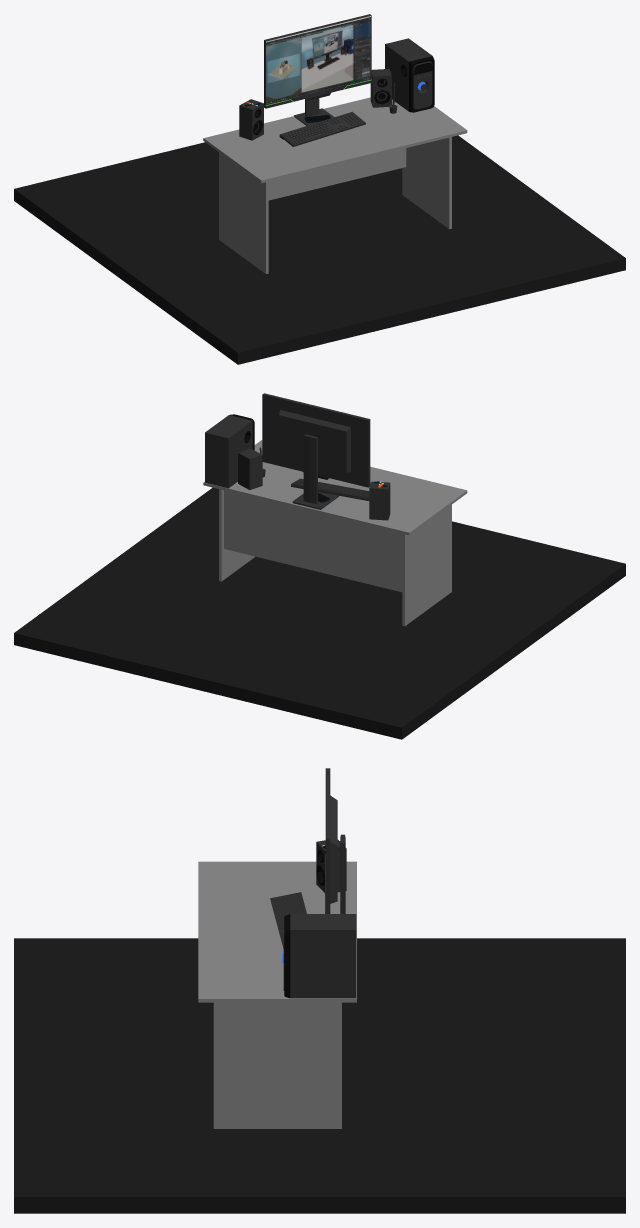
The model's file is lowpoly_workplace.glb.
The picture shows the model from 3 angles, top to bottom: view 1: azimuth 30°, elevation 25°; view 2: azimuth 150°, elevation 25°; view 3: azimuth 270°, elevation 25°; orthographic projection. The views are drawn at different scales.
Visible parts, largest first — view 1: Plane_10, Cube.012_0, monitor_12, Cube.017_8, Cube.013_1, keyboard_11; view 2: Plane_10, Cube.012_0, monitor_12, Cube.017_8, Cube.013_1, keyboard_11; view 3: Plane_10, Cube.012_0, Cube.017_8, monitor_12, keyboard_11, Cube.013_1.
Part boxes in pixels (left/top/right/bottom): Plane_10: left=14, top=135, right=625, bottom=364; Cube.012_0: left=203, top=97, right=467, bottom=273; monitor_12: left=264, top=14, right=371, bottom=125; Cube.017_8: left=385, top=38, right=434, bottom=112; Cube.013_1: left=239, top=69, right=391, bottom=140; keyboard_11: left=279, top=111, right=365, bottom=146; Plane_10: left=14, top=487, right=625, bottom=739; Cube.012_0: left=203, top=440, right=467, bottom=626; monitor_12: left=262, top=393, right=370, bottom=509; Cube.017_8: left=205, top=414, right=254, bottom=488; Cube.013_1: left=238, top=448, right=390, bottom=520; keyboard_11: left=291, top=478, right=369, bottom=500; Plane_10: left=14, top=938, right=625, bottom=1213; Cube.012_0: left=198, top=861, right=356, bottom=1128; Cube.017_8: left=282, top=914, right=356, bottom=998; monitor_12: left=325, top=768, right=345, bottom=913; keyboard_11: left=270, top=892, right=306, bottom=948; Cube.013_1: left=316, top=839, right=346, bottom=892.
Size of the model in its own units: 3.2 by 1.62 by 3.2.
Materials: 11 (1 with a texture image).
